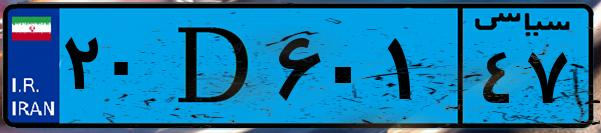0: (330, 28, 385, 110), (110, 28, 158, 98)
1: (385, 28, 445, 110)
2: (57, 26, 110, 100)
4: (475, 38, 525, 113)
6: (270, 28, 330, 110)
7: (525, 38, 570, 115)
D: (158, 12, 270, 120)
